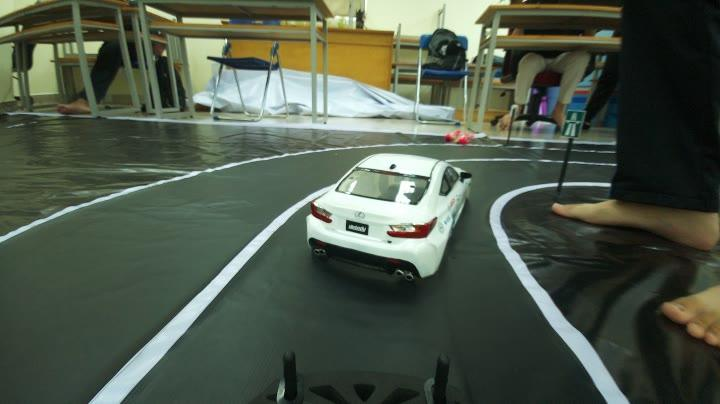car: (313, 140, 474, 287)
highway_entry: (556, 106, 582, 139)
